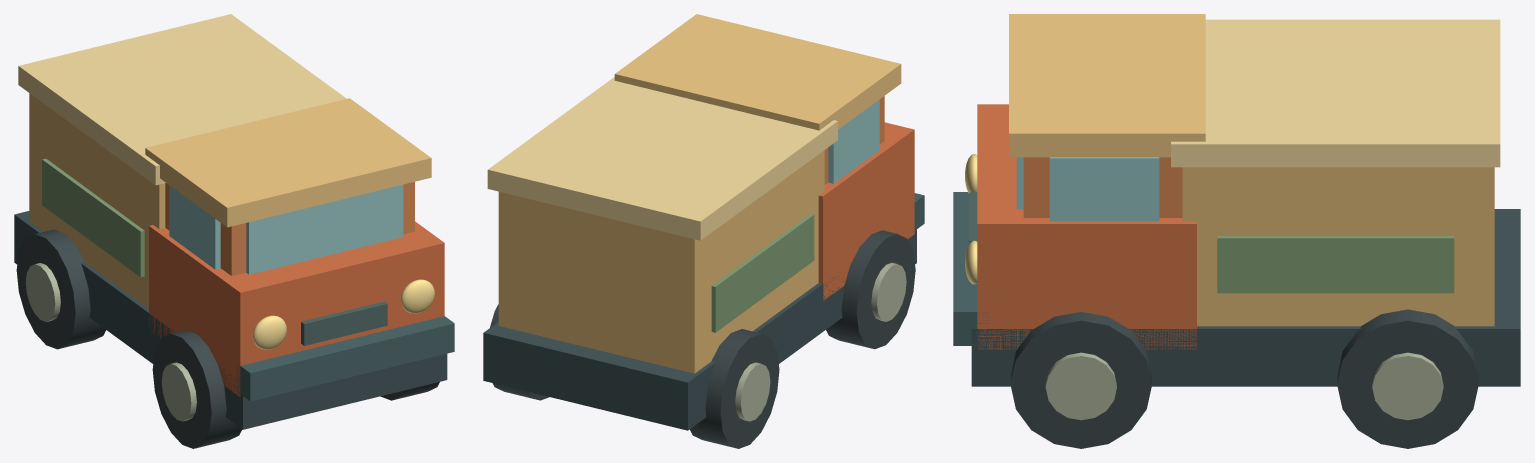
File: truck.glb
3 renders of one model, left to right at view 1: azimuth 30°, elevation 25°; view 2: azimuth 150°, elevation 25°; view 3: azimuth 270°, elevation 25°, orthographic. The views are drawn at different scales.
Parts seen in each view (by area): view 1: box (×11), tube (×4), ball (×2); view 2: box (×8), tube (×5); view 3: box (×9), tube (×4).
Boxes of the visible parts, x1,y1,x2,y2 form: box (×11): (14, 14, 454, 429); tube (×4): (16, 229, 242, 448); ball (×2): (252, 279, 434, 349); box (×8): (483, 14, 916, 430); tube (×5): (490, 230, 915, 448); box (×9): (953, 14, 1520, 386); tube (×4): (1010, 309, 1478, 448).
Bounding box in the file's own units: 1.18 × 1.17 × 1.96.
